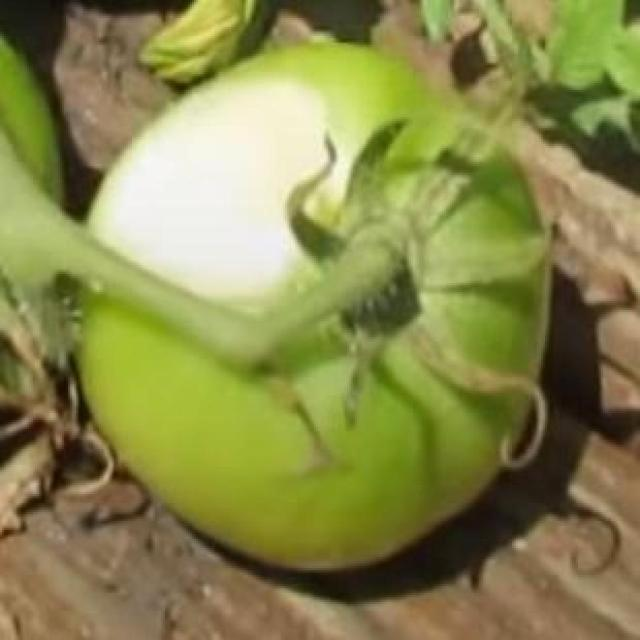Sunscald Fruit: (45, 53, 225, 204)
